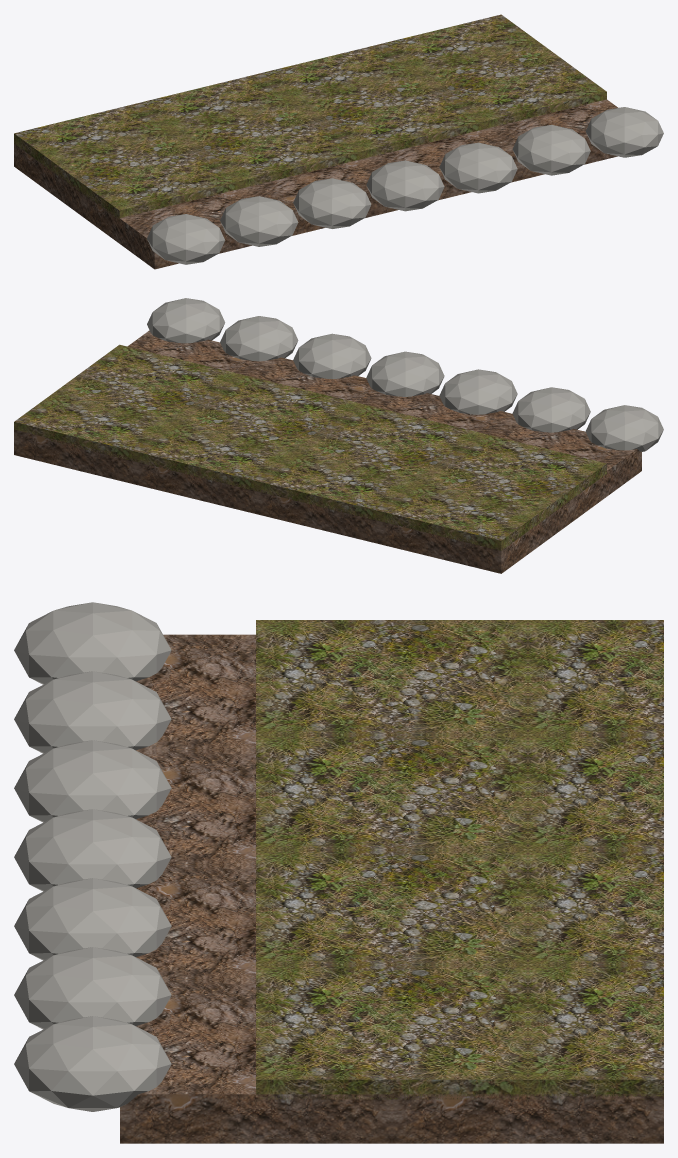
The model's file is see_uferkante_4m.glb.
The picture shows the model from 3 angles, top to bottom: view 1: azimuth 30°, elevation 25°; view 2: azimuth 150°, elevation 25°; view 3: azimuth 270°, elevation 25°; orthographic projection. The views are drawn at different scales.
Visible parts, largest first — view 1: see_uferkante_4m_001, see_uferkante_4m_000, see_uferkante_4m_003, see_uferkante_4m_002, see_uferkante_4m_006, see_uferkante_4m_008, see_uferkante_4m_005, see_uferkante_4m_007, see_uferkante_4m_004; view 2: see_uferkante_4m_001, see_uferkante_4m_000, see_uferkante_4m_002, see_uferkante_4m_008, see_uferkante_4m_003, see_uferkante_4m_004, see_uferkante_4m_005, see_uferkante_4m_006, see_uferkante_4m_007; view 3: see_uferkante_4m_001, see_uferkante_4m_000, see_uferkante_4m_008, see_uferkante_4m_003, see_uferkante_4m_005, see_uferkante_4m_004, see_uferkante_4m_002, see_uferkante_4m_007, see_uferkante_4m_006.
Boxes of the visible parts, left/top/right/bottom form: see_uferkante_4m_001: left=14, top=14, right=606, bottom=220; see_uferkante_4m_000: left=14, top=99, right=618, bottom=269; see_uferkante_4m_003: left=220, top=196, right=298, bottom=246; see_uferkante_4m_002: left=147, top=214, right=225, bottom=264; see_uferkante_4m_006: left=439, top=142, right=517, bottom=193; see_uferkante_4m_008: left=585, top=107, right=663, bottom=157; see_uferkante_4m_005: left=366, top=160, right=444, bottom=211; see_uferkante_4m_007: left=512, top=124, right=590, bottom=175; see_uferkante_4m_004: left=293, top=178, right=371, bottom=228; see_uferkante_4m_001: left=14, top=344, right=606, bottom=550; see_uferkante_4m_000: left=14, top=330, right=641, bottom=573; see_uferkante_4m_002: left=585, top=405, right=663, bottom=451; see_uferkante_4m_008: left=147, top=298, right=225, bottom=343; see_uferkante_4m_003: left=512, top=387, right=590, bottom=432; see_uferkante_4m_004: left=439, top=369, right=517, bottom=414; see_uferkante_4m_005: left=366, top=351, right=444, bottom=396; see_uferkante_4m_006: left=293, top=333, right=371, bottom=378; see_uferkante_4m_007: left=220, top=316, right=298, bottom=361; see_uferkante_4m_001: left=256, top=620, right=663, bottom=1099; see_uferkante_4m_000: left=120, top=634, right=663, bottom=1143; see_uferkante_4m_008: left=14, top=1016, right=171, bottom=1111; see_uferkante_4m_003: left=14, top=671, right=171, bottom=753; see_uferkante_4m_005: left=14, top=809, right=171, bottom=891; see_uferkante_4m_004: left=14, top=740, right=171, bottom=822; see_uferkante_4m_002: left=14, top=602, right=171, bottom=684; see_uferkante_4m_007: left=14, top=947, right=171, bottom=1029; see_uferkante_4m_006: left=14, top=878, right=171, bottom=960.
Bounding box in the file's own units: 4.15 × 0.38 × 2.39.
Materials: 2 (2 with a texture image).
